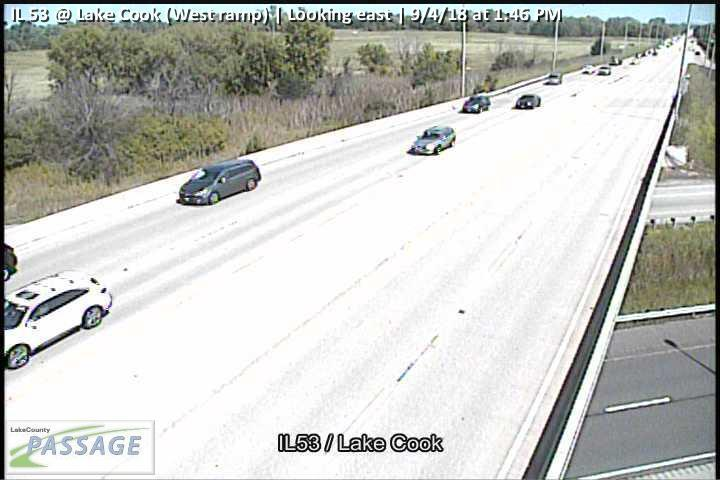SUV: (3, 272, 113, 370), (178, 159, 262, 206), (411, 124, 456, 155), (463, 95, 490, 114), (549, 71, 563, 85)
Sedan: (515, 93, 541, 110), (598, 65, 611, 76)
